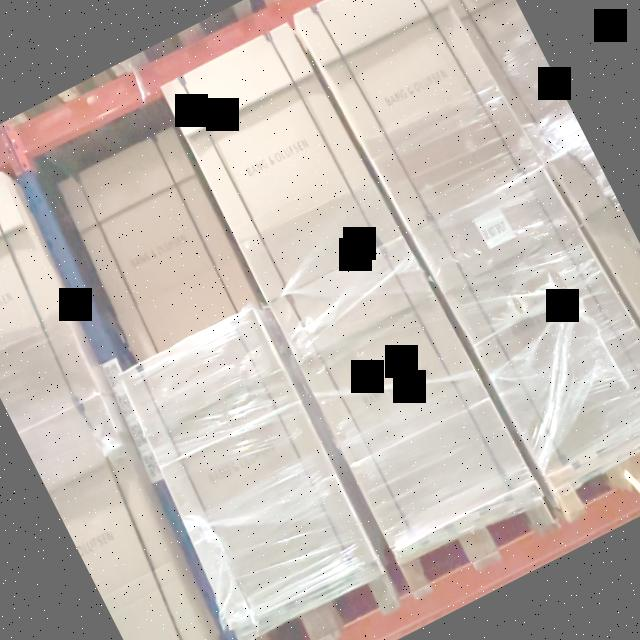box: (121, 312, 372, 616), (274, 242, 524, 544), (419, 170, 640, 470), (164, 27, 394, 296), (301, 0, 529, 229), (64, 130, 262, 364)
